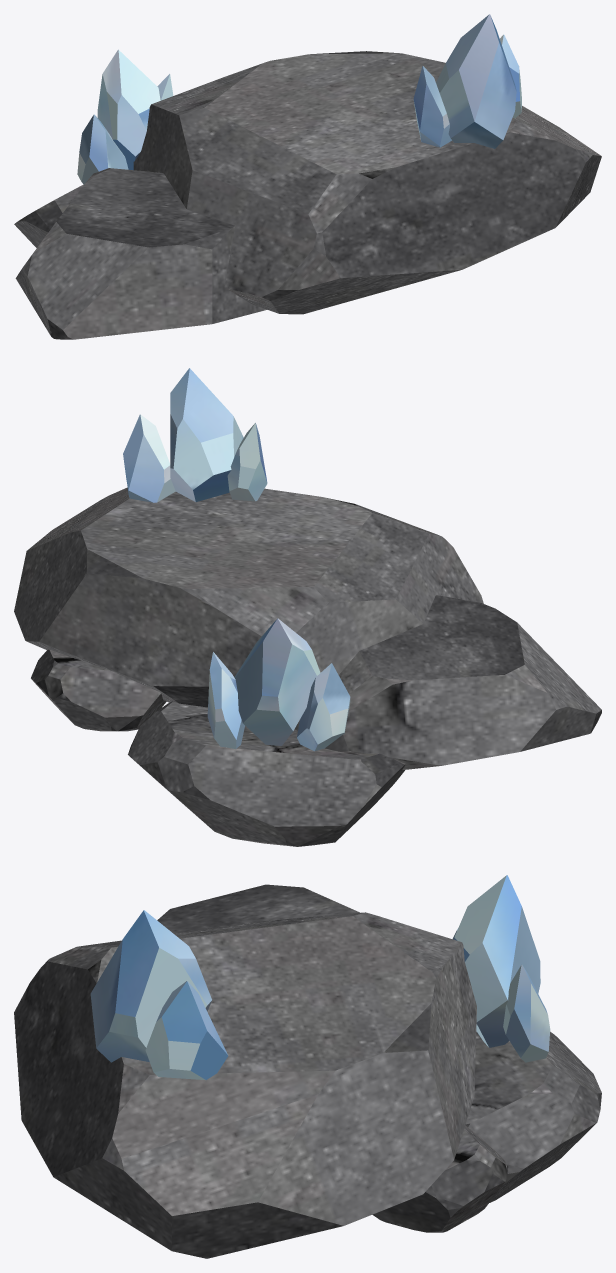
The model's file is Plateforme cristal 2.fbx.
3 renders of one model, top to bottom at view 1: azimuth 30°, elevation 25°; view 2: azimuth 150°, elevation 25°; view 3: azimuth 270°, elevation 25°, orthographic. The views are drawn at different scales.
Parts seen in each view (by area): view 1: Icosphere.024, Icosphere.012; view 2: Icosphere.024, Icosphere.012; view 3: Icosphere.024, Icosphere.012.
Boxes of the visible parts, x1,y1,x2,y2 form: Icosphere.024: [14, 51, 601, 339]; Icosphere.012: [77, 14, 521, 184]; Icosphere.024: [14, 487, 601, 846]; Icosphere.012: [123, 368, 350, 751]; Icosphere.024: [14, 884, 601, 1258]; Icosphere.012: [90, 875, 550, 1080].
Bounding box in the file's own units: 302 × 155 × 223.
